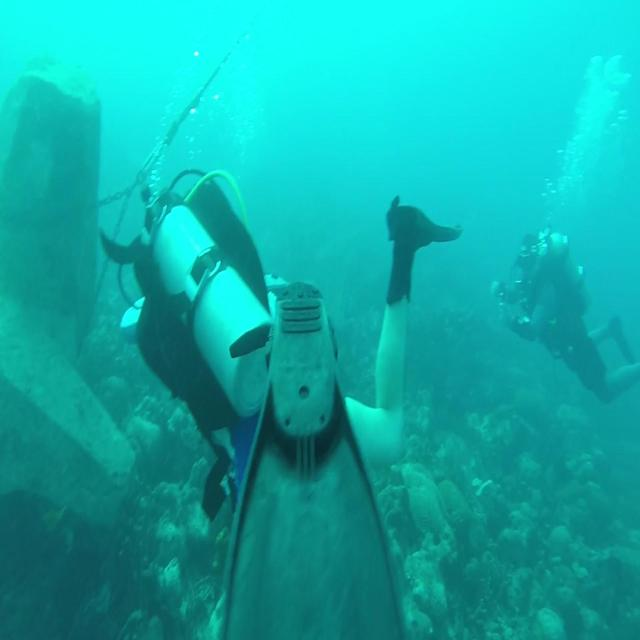human: (97, 167, 463, 638), (492, 229, 639, 404)
